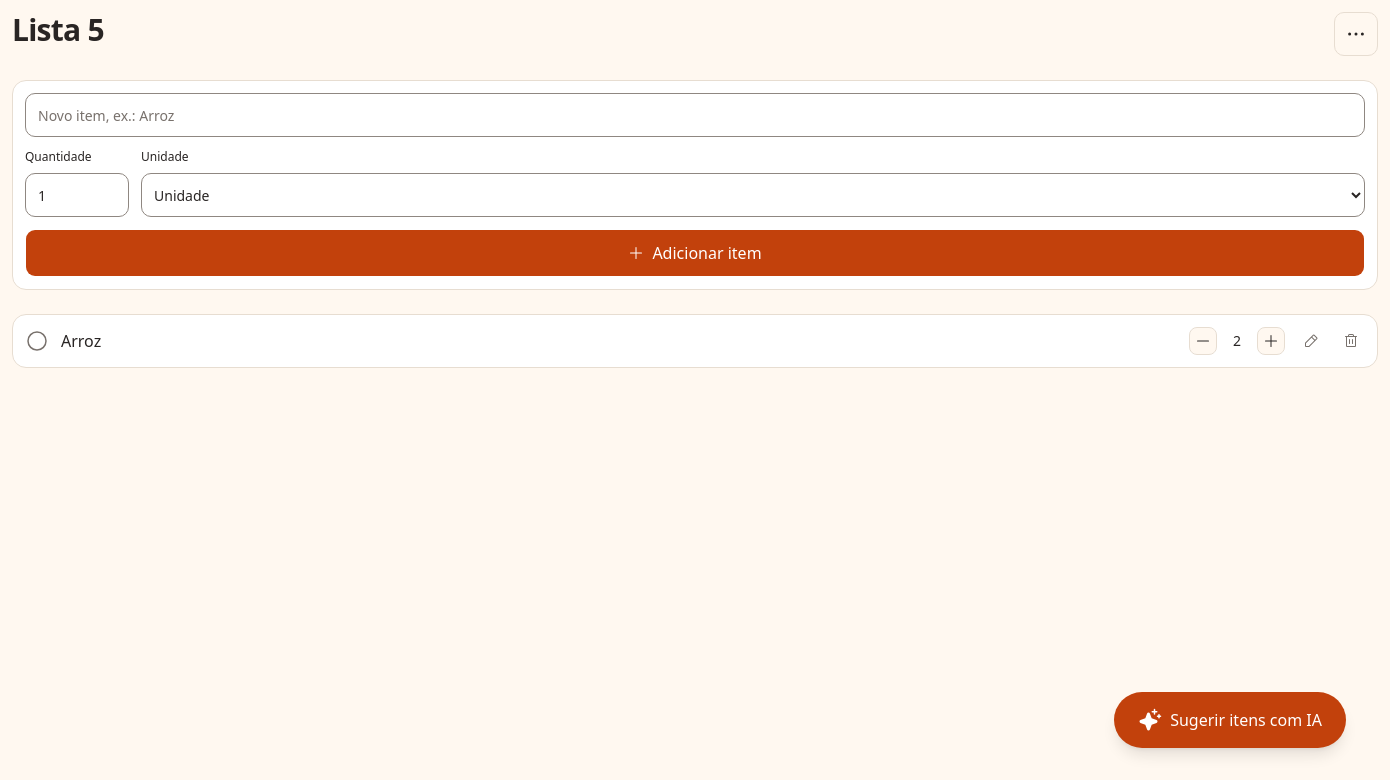
Test: ShopperListDetailView › changes an item's quantity
Expected: the text "Arroz" is shown, [61,330,101,352]
Step 1. Click the button named "Aumentar quantidade" → click(1271, 341), box [1257,327,1285,355]
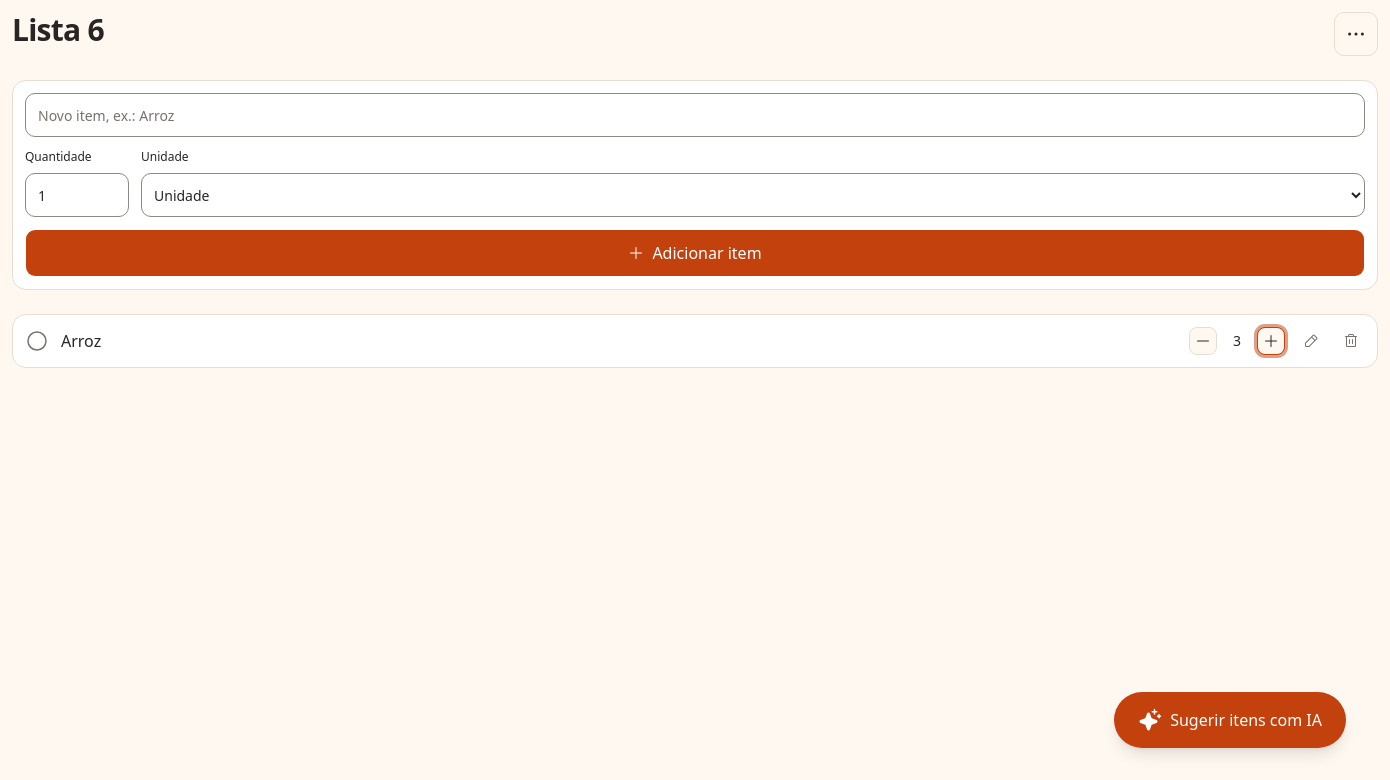
Expected: the text "3" is shown, [1233,331,1241,350]
